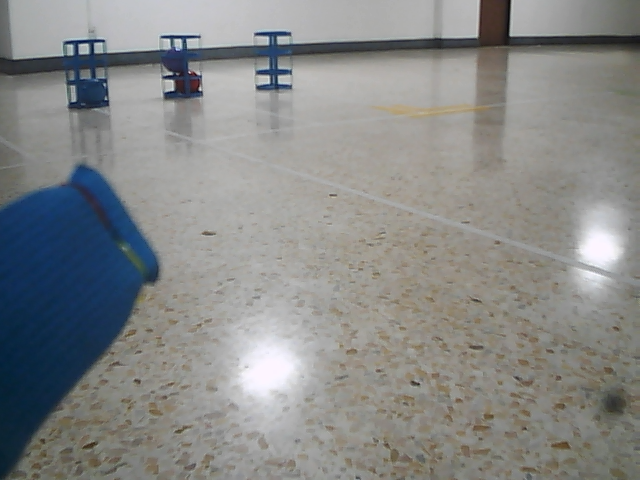Blue ball: (75, 78, 108, 106)
Cyro: (59, 37, 113, 110), (156, 31, 207, 101), (251, 28, 294, 92)
Purple ball: (163, 47, 188, 72)
Red ball: (176, 69, 201, 93)
